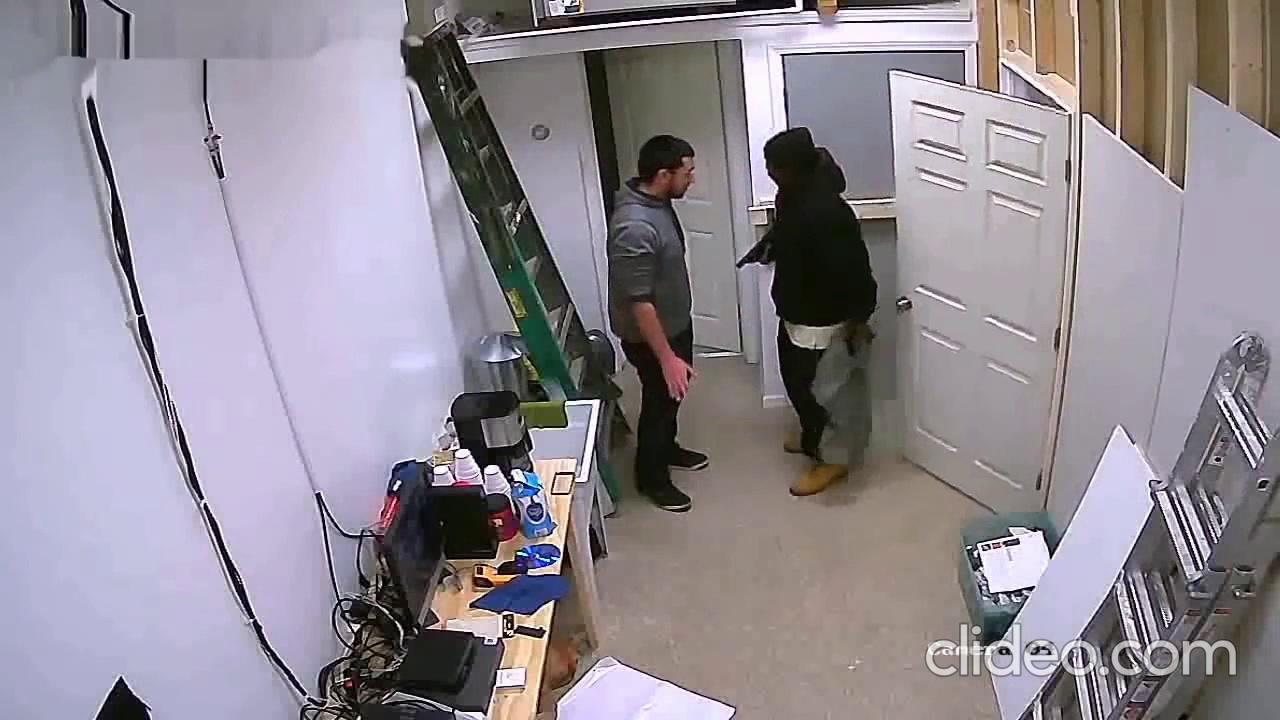person: (754, 125, 879, 498), (606, 133, 713, 515)
pistol: (736, 238, 769, 269)
